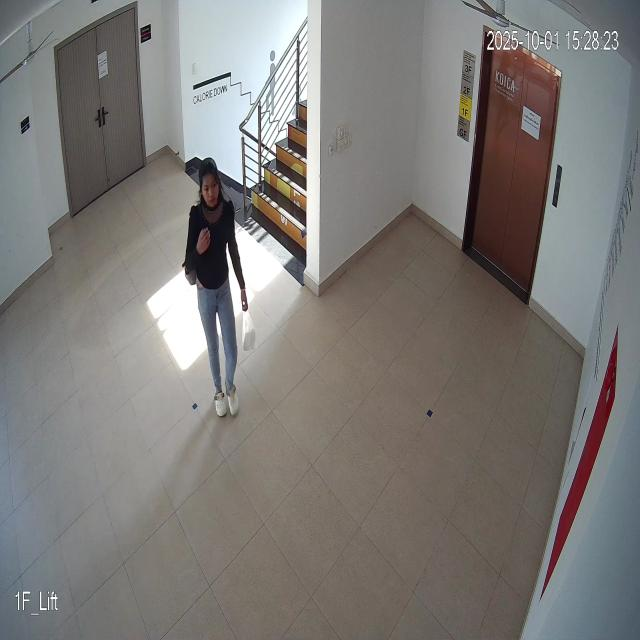face: (195, 152, 224, 214)
